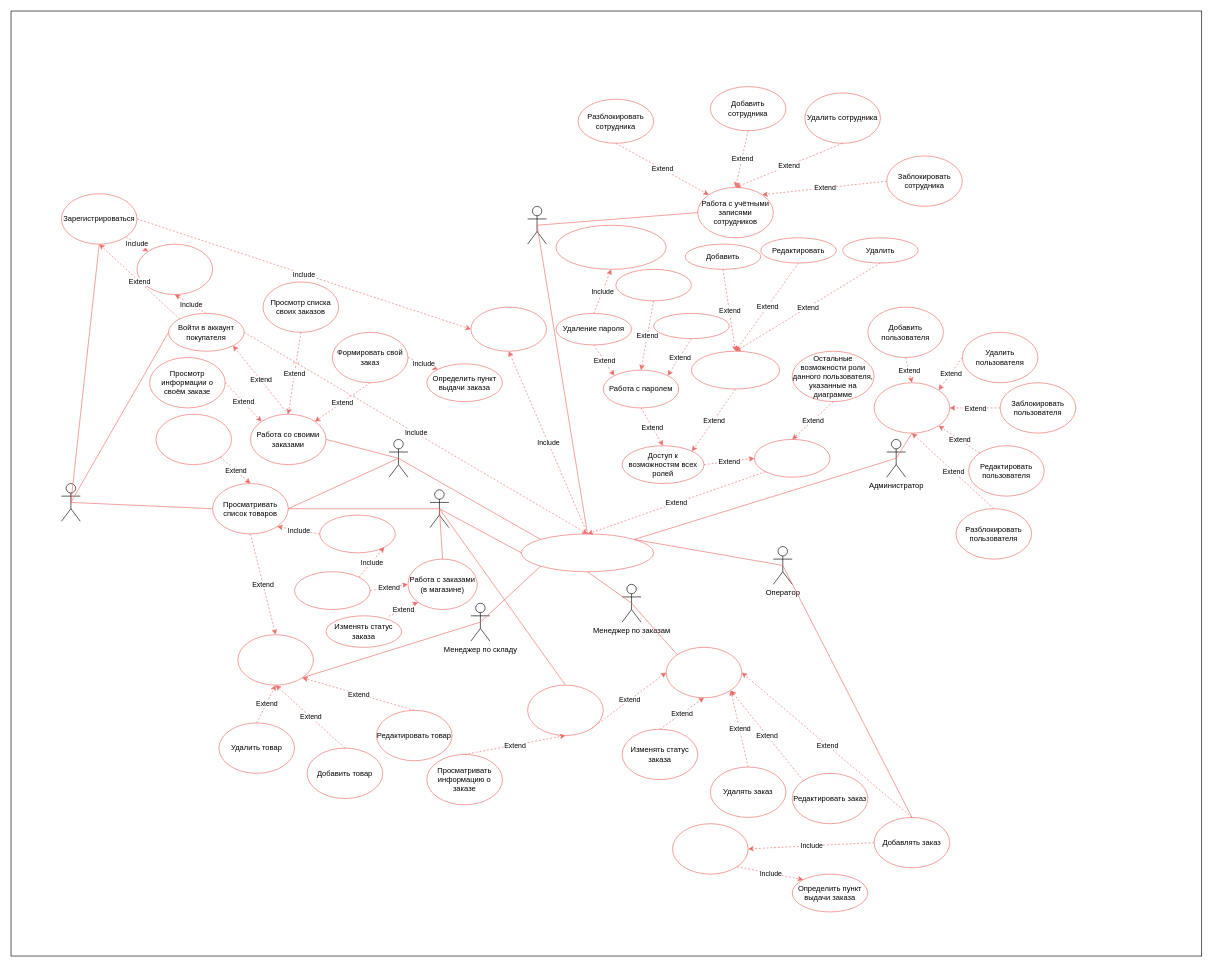
Image size: 1213x967. Some labels were removed from this diagram. Each missing label, with the box of its shape:
Авторизация: (521, 533, 654, 572)
Ввести логин и пароль аккаунта: (470, 306, 547, 351)
Гость: (61, 483, 80, 521)
Директор: (527, 206, 547, 244)
Доступ к возможностям роли: (754, 439, 830, 477)
Клиент: (388, 439, 408, 477)
Подтвердить в сообщении о небезопасности пользователя без пароля: (555, 225, 666, 269)
Получить аккаунт покупателя: (136, 243, 213, 295)
Проверить наличие товаров для заказа: (319, 514, 395, 553)
Продавец: (429, 489, 449, 528)
Просматривать информацию о товаре: (155, 414, 232, 465)
Просматривать список заказов: (527, 684, 603, 736)
Работа с заказами: (666, 647, 742, 698)
Работа с личными данными (ФИО, Телефон, Email, ...): (691, 351, 780, 389)
Работа с учётными записями пользователей: (873, 382, 950, 433)
Работа со списком товаров: (237, 634, 313, 685)
Смена пароля: (615, 269, 691, 301)
Сформировать заказ: (294, 571, 370, 610)
Установка пароля: (653, 313, 729, 339)
Формировать заказ: (672, 823, 748, 874)
